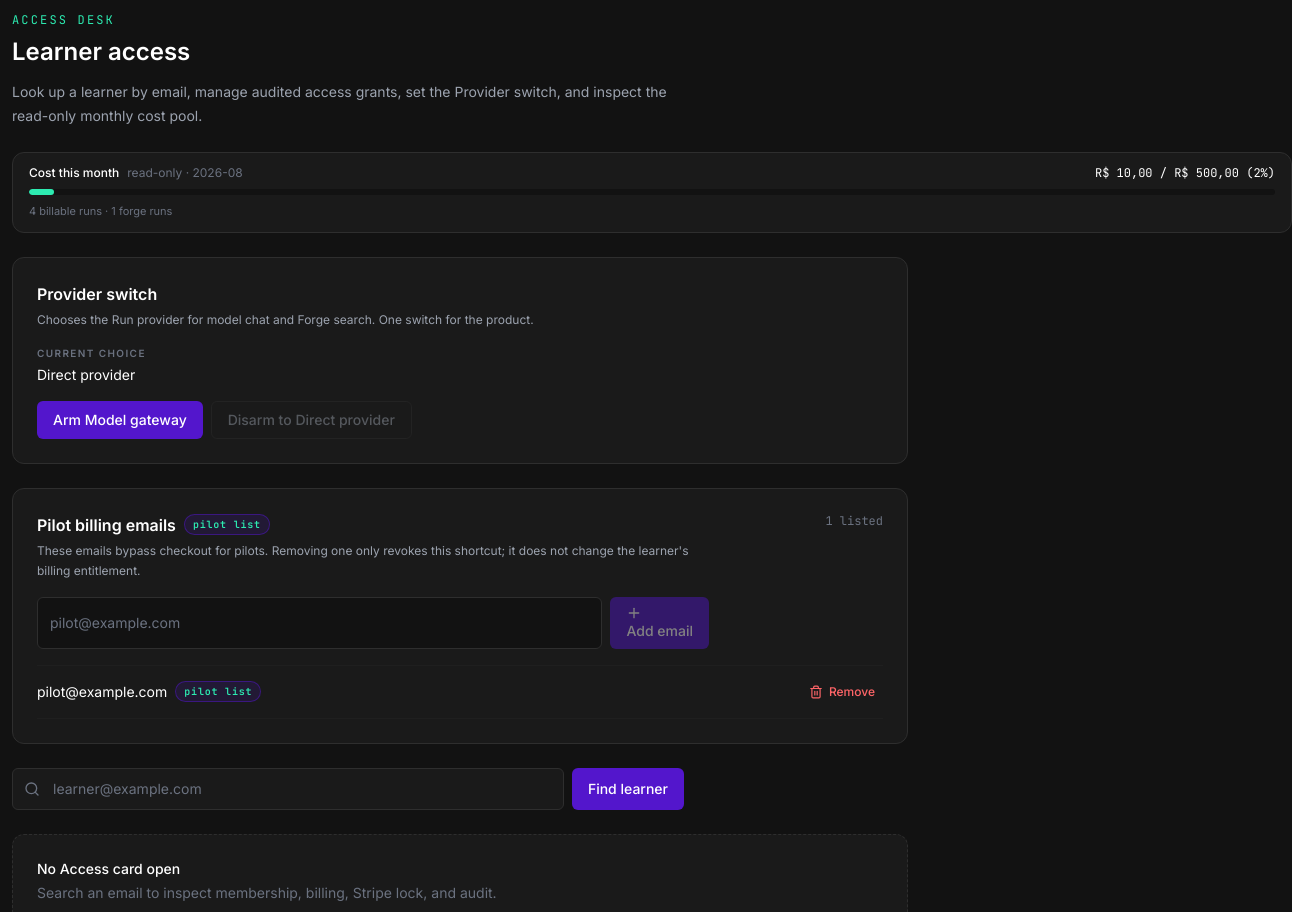
Test case: AccessDesk Provider switch › keeps the previous choice and shows why a refused arm failed
Expected: the text with test id "operator-provider-switch-choice" reads "Direct provider", [37,366,135,382]
What coordinates should you click on to do the following:
click the button with test id "operator-provider-switch-arm"
I would click on:
 (120, 420)
Its box is [37,400,203,438].
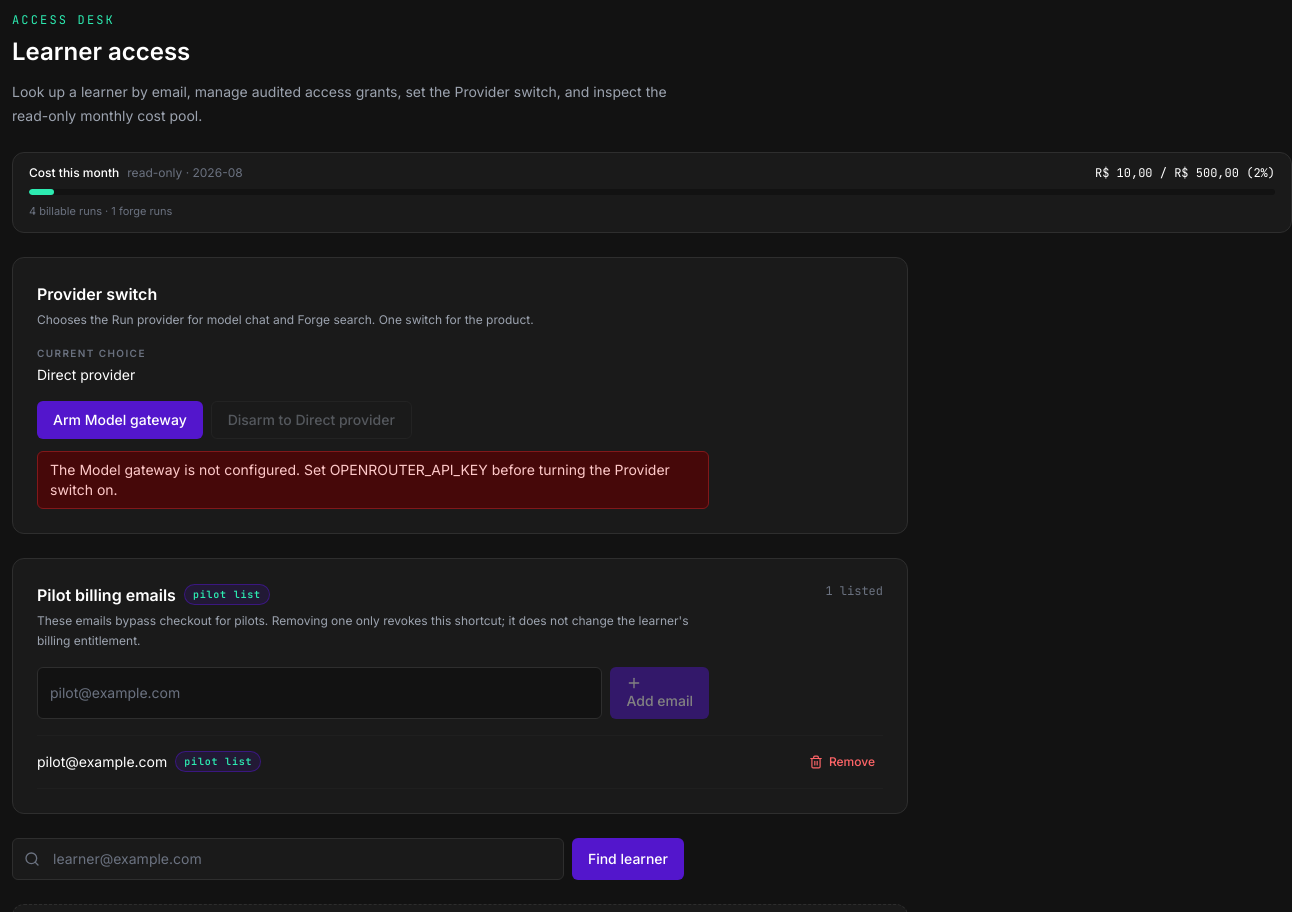
Expected: the text with test id "operator-provider-switch-choice" reads "Direct provider", [37,366,135,382]
Expected: the message with test id "operator-provider-switch-error" shows "The Model gateway is not configured. Set OPENROUTER_API_KEY before turning the Provider switch on.", [50,460,670,498]
